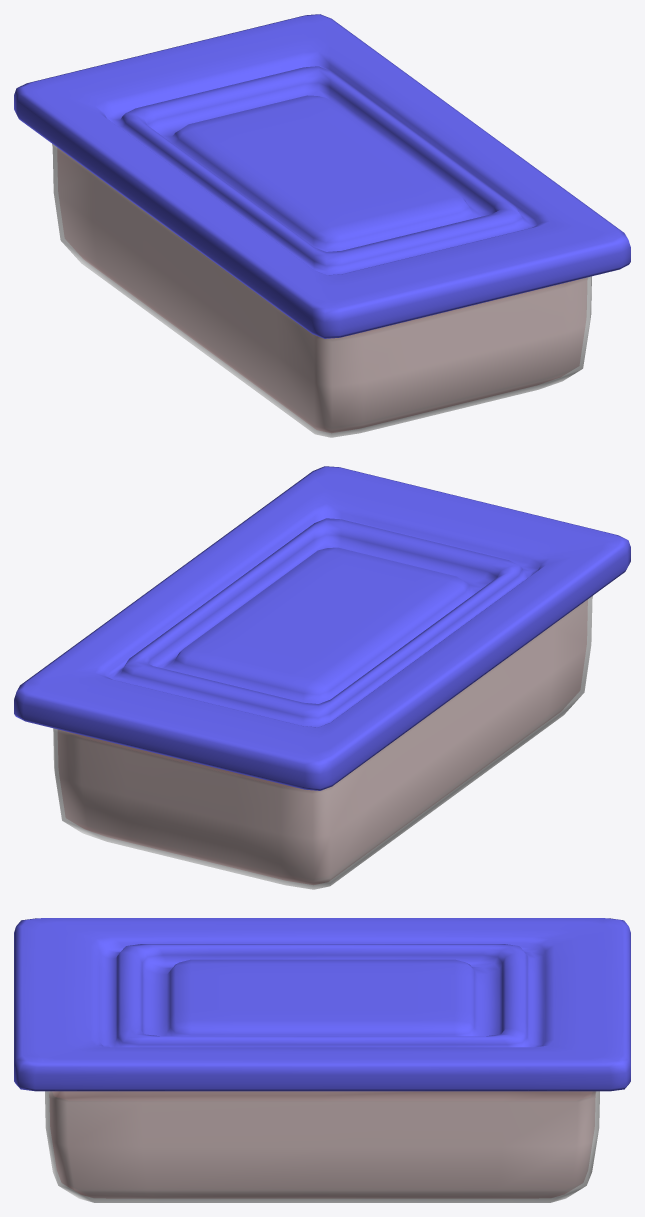
Rendered from PlasticContainer.fbx.
The picture shows the model from 3 angles, top to bottom: view 1: azimuth 30°, elevation 25°; view 2: azimuth 150°, elevation 25°; view 3: azimuth 270°, elevation 25°; orthographic projection. The views are drawn at different scales.
Parts seen in each view (by area): view 1: pCube2, pCube1; view 2: pCube2, pCube1; view 3: pCube2, pCube1.
Boxes of the visible parts, x1=… form: pCube2: x1=14, y1=14, x2=630, y2=338; pCube1: x1=52, y1=144, x2=591, y2=437; pCube2: x1=14, y1=466, x2=630, y2=790; pCube1: x1=53, y1=596, x2=592, y2=889; pCube2: x1=14, y1=918, x2=630, y2=1091; pCube1: x1=45, y1=1091, x2=599, y2=1202.
Size of the model in its own units: 71.55 by 124 by 36.83.
